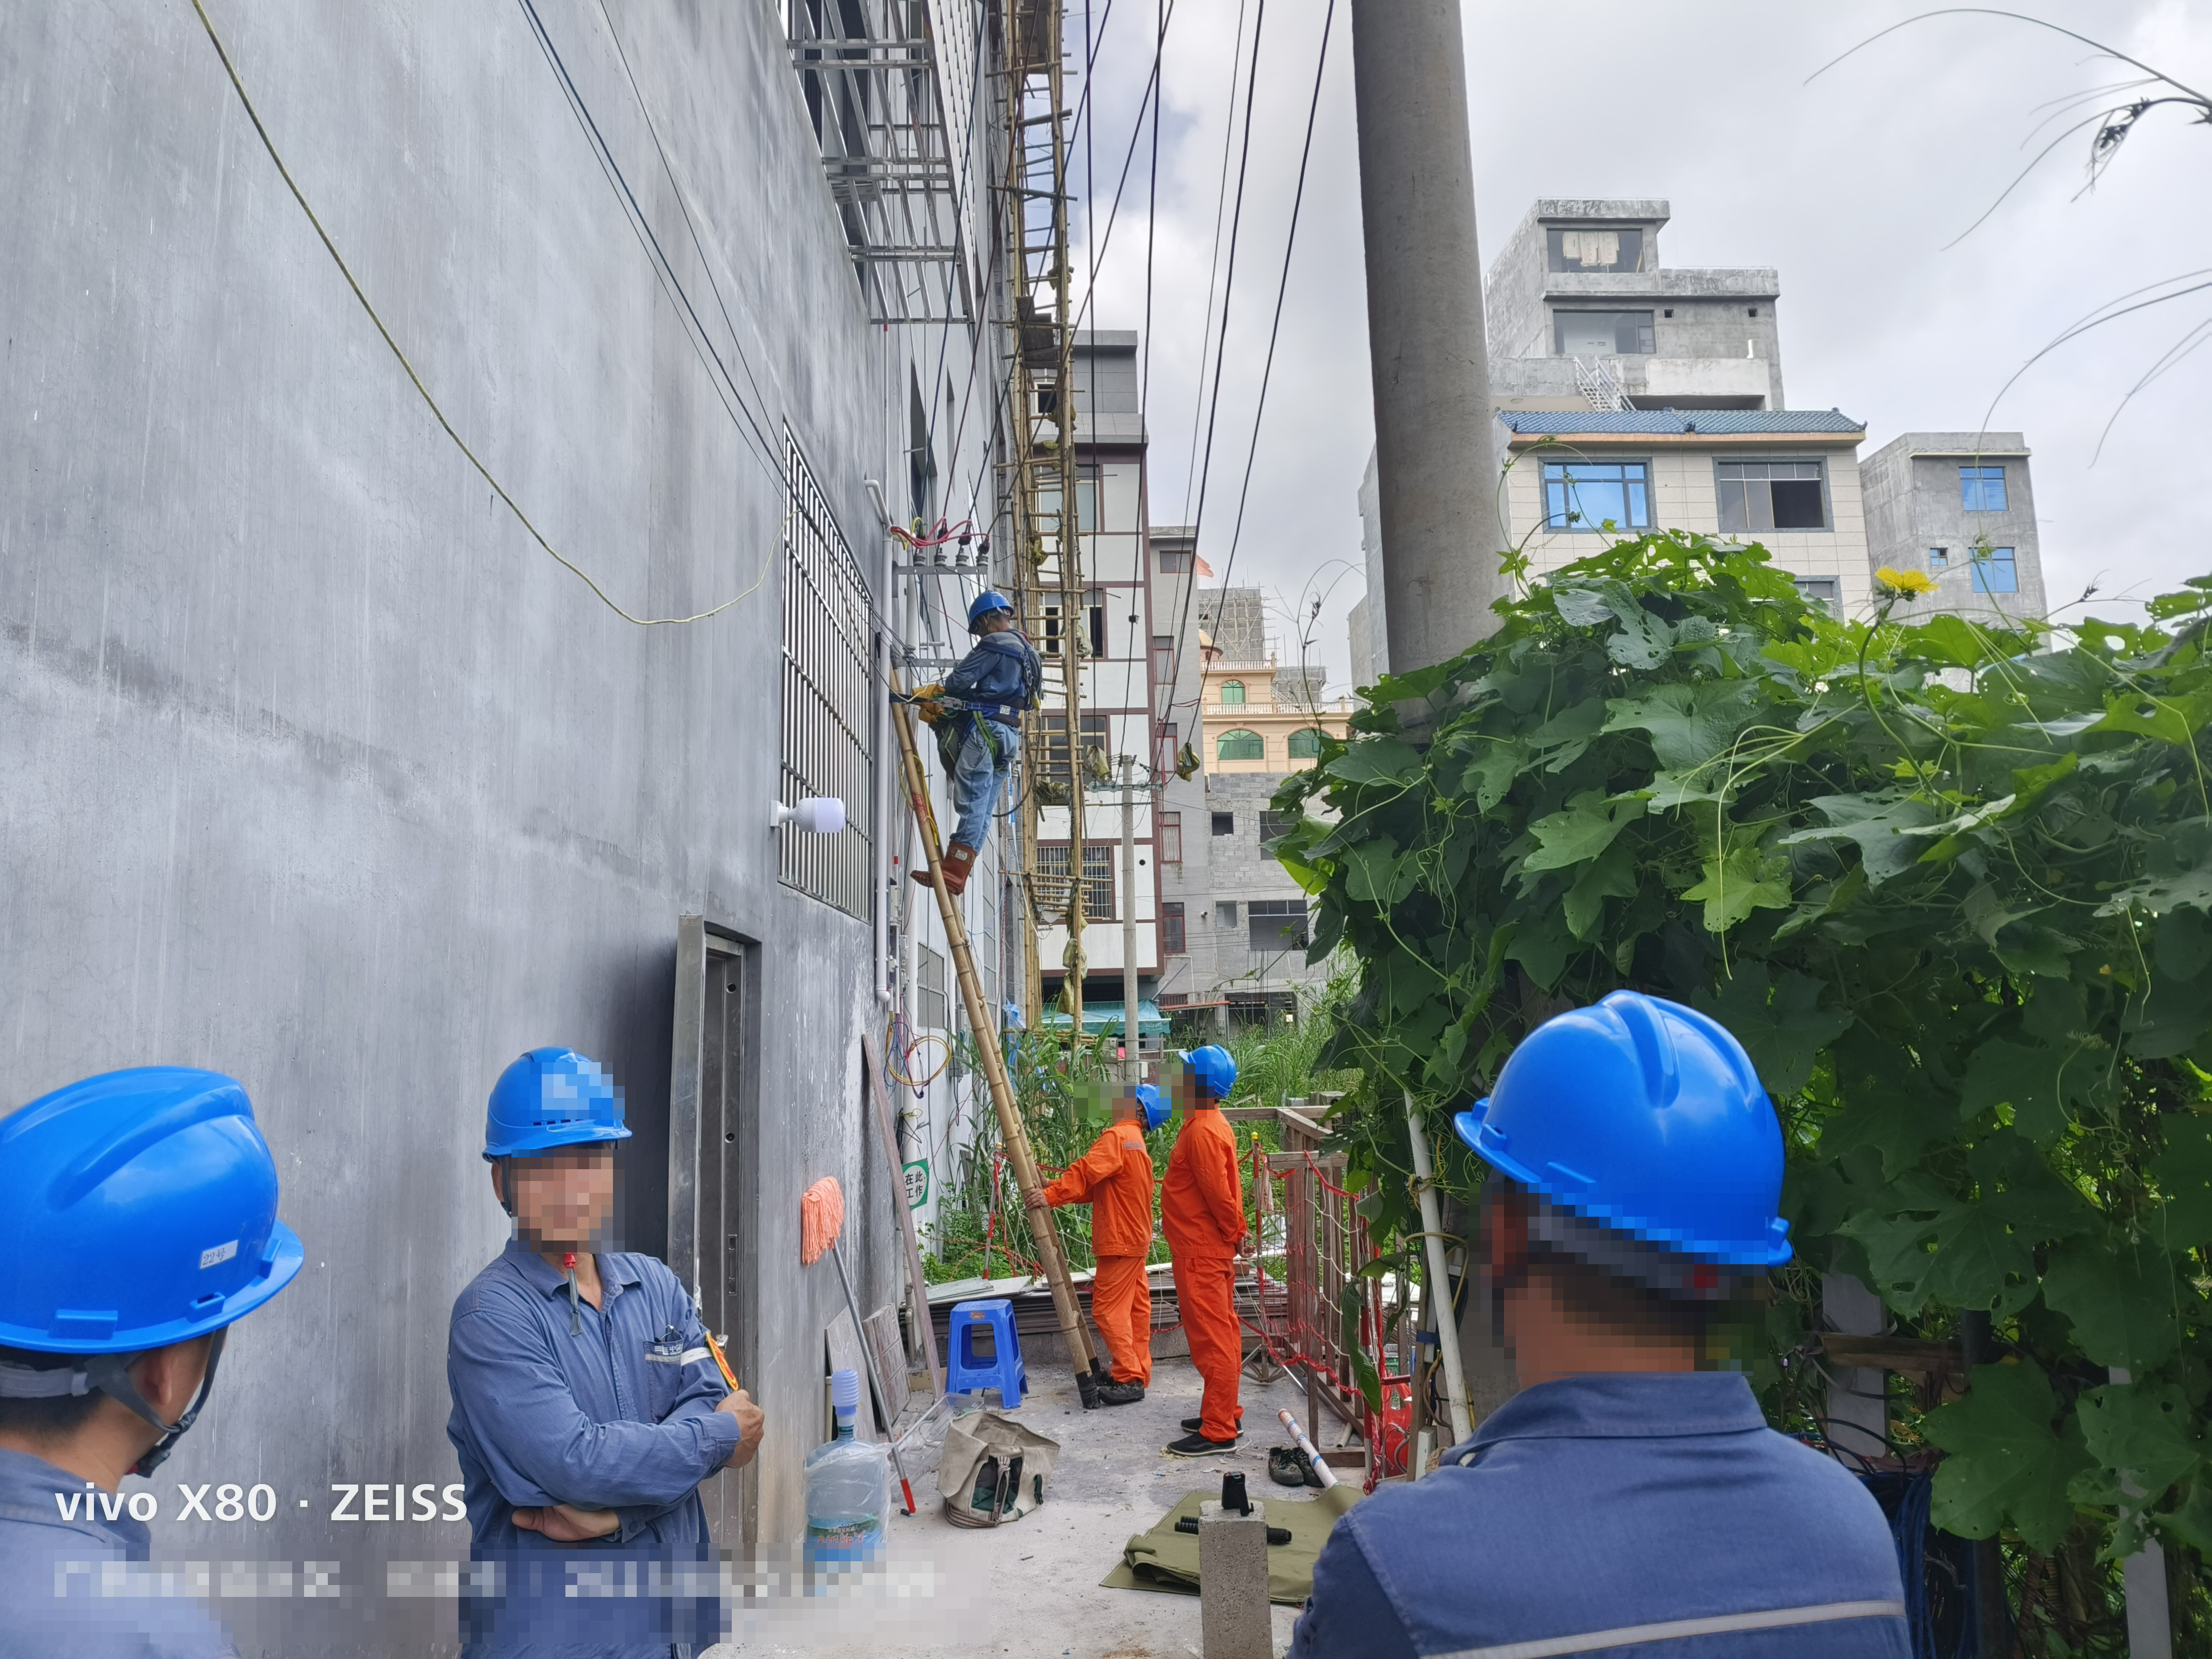downsuit: (950, 719, 1024, 851)
halt: (1439, 993, 1803, 1366), (1, 1062, 318, 1473), (478, 1046, 636, 1247), (1172, 1043, 1240, 1105), (1109, 1081, 1169, 1133), (965, 589, 1015, 635)
hand: (505, 1498, 619, 1557), (712, 1387, 766, 1472), (1020, 1189, 1049, 1211), (1237, 1231, 1257, 1258)
inear: (93, 1331, 232, 1448), (1465, 1164, 1548, 1323), (1177, 1069, 1207, 1103)
person: (1284, 987, 1931, 1659), (1, 1049, 353, 1658), (423, 1040, 769, 1657), (1157, 1042, 1265, 1459), (1041, 1067, 1171, 1402), (926, 588, 1047, 890)
safebelt: (887, 626, 1046, 779)
shoe: (908, 842, 977, 896)
sleeve: (705, 1329, 737, 1393)
support: (1027, 1075, 1172, 1405)
upsuit: (1281, 1373, 1922, 1659), (443, 1232, 750, 1656), (946, 629, 1044, 715)
worksign: (900, 1157, 929, 1209)
ydownsuit: (1171, 1284, 1245, 1427), (1091, 1262, 1155, 1379)
yupsuit: (1158, 1103, 1246, 1278), (1044, 1116, 1157, 1246)
